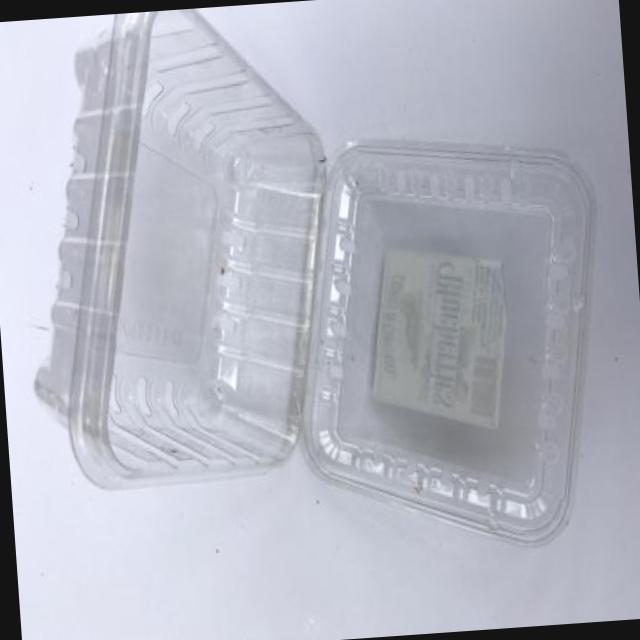Recycle: (5, 0, 620, 578)
